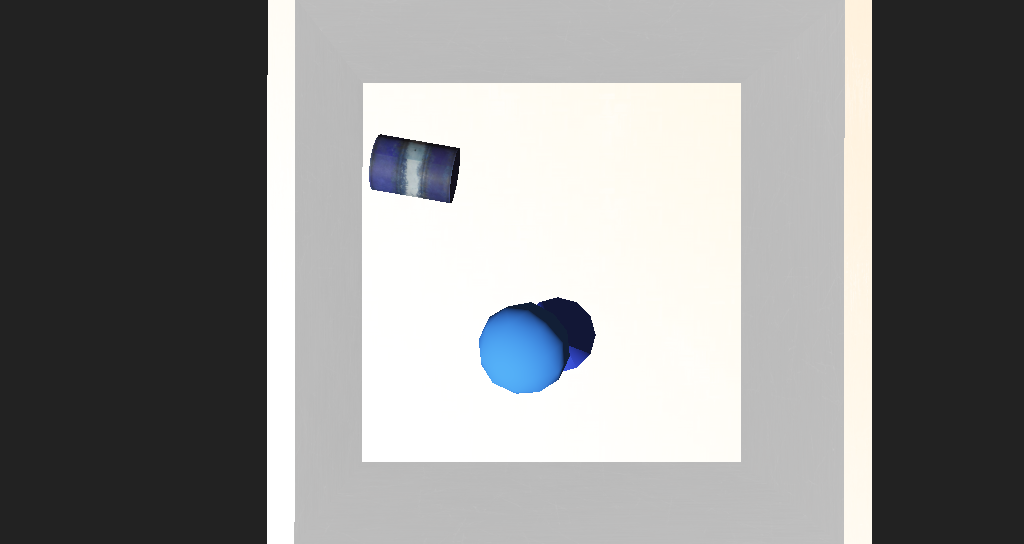cone: (360, 188, 435, 231)
cylinder: (482, 282, 542, 329)
sphere: (445, 284, 512, 336)
